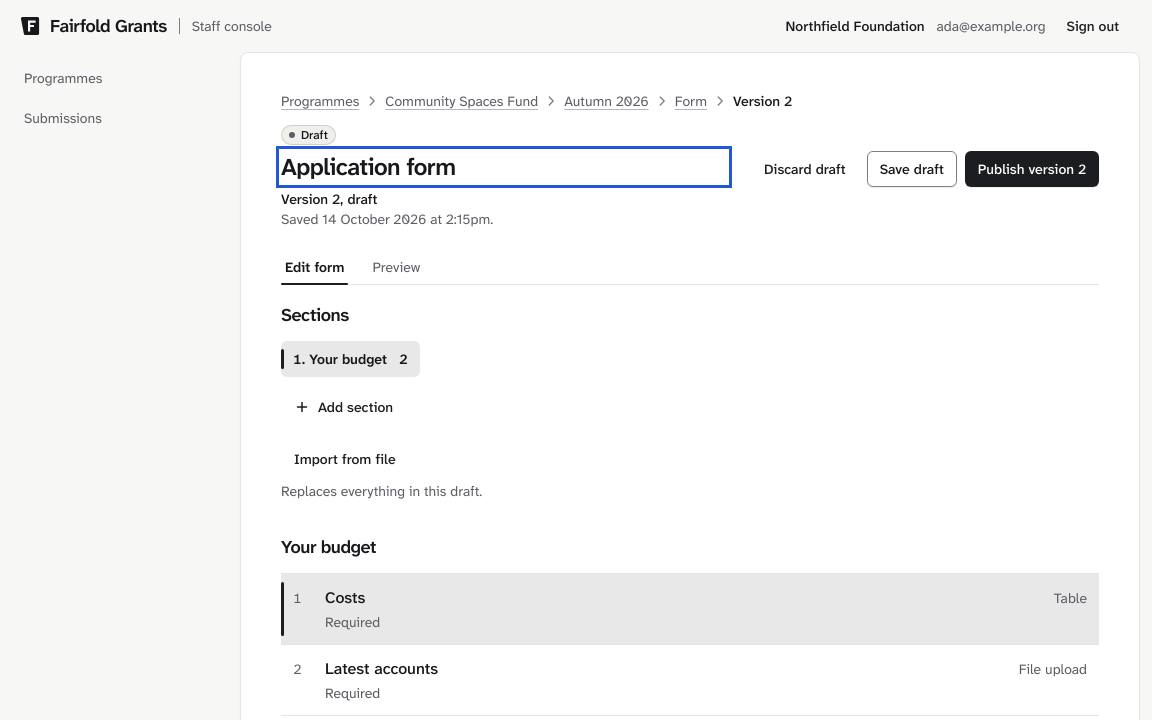
Test: the settings of a file question › keep the most files to what the platform allows
Expected: the heading "Application form" is shown, [281, 151, 455, 183]
Expected: the text "Version 2, draft" is shown, [281, 190, 377, 208]
Step 1. Click the button "2 Latest accounts File upload Required" → coordinates (381, 668), box [281, 645, 1099, 715]
(page scrolled)
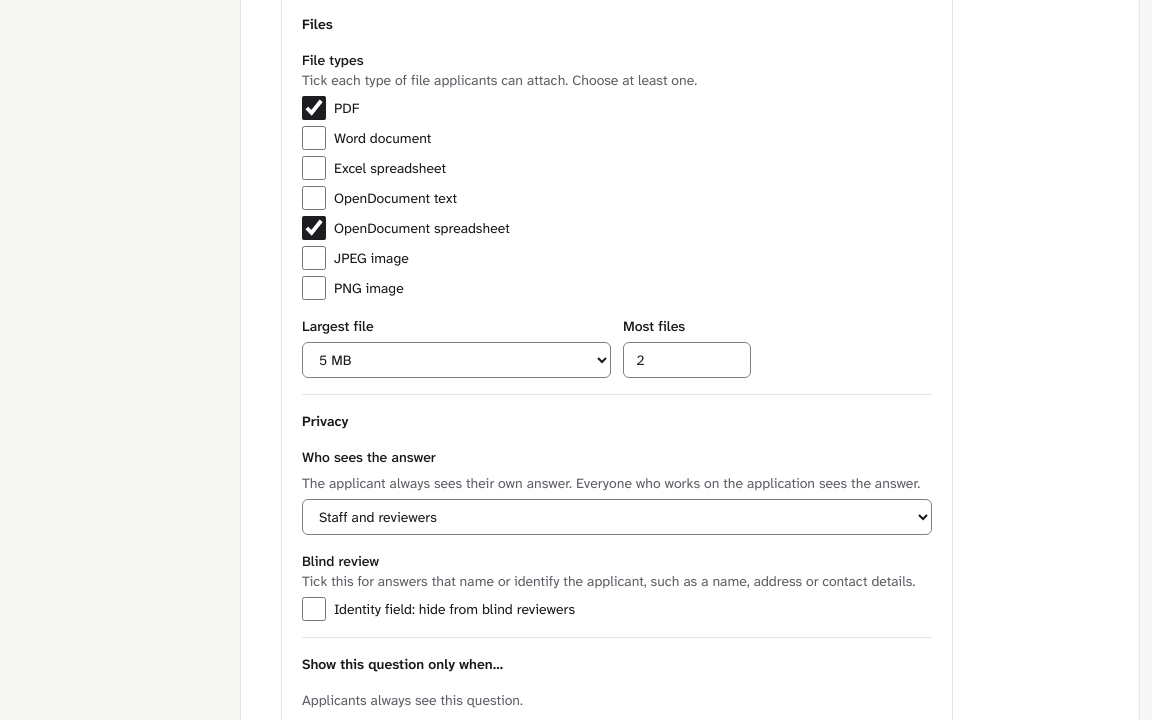
Step 2. Replace the text in the field labelled "Most files" with "25" → coordinates (687, 360), box [623, 342, 751, 378]
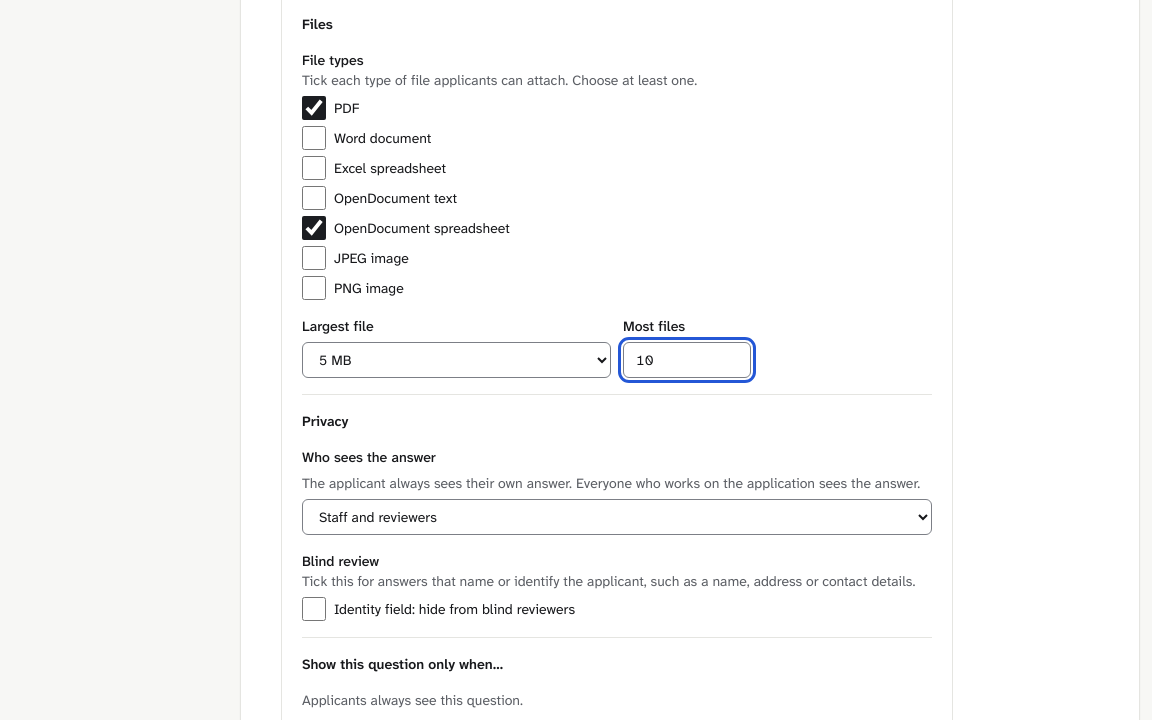
Expected: the field labelled "Most files" holds "10", [623, 342, 751, 378]
